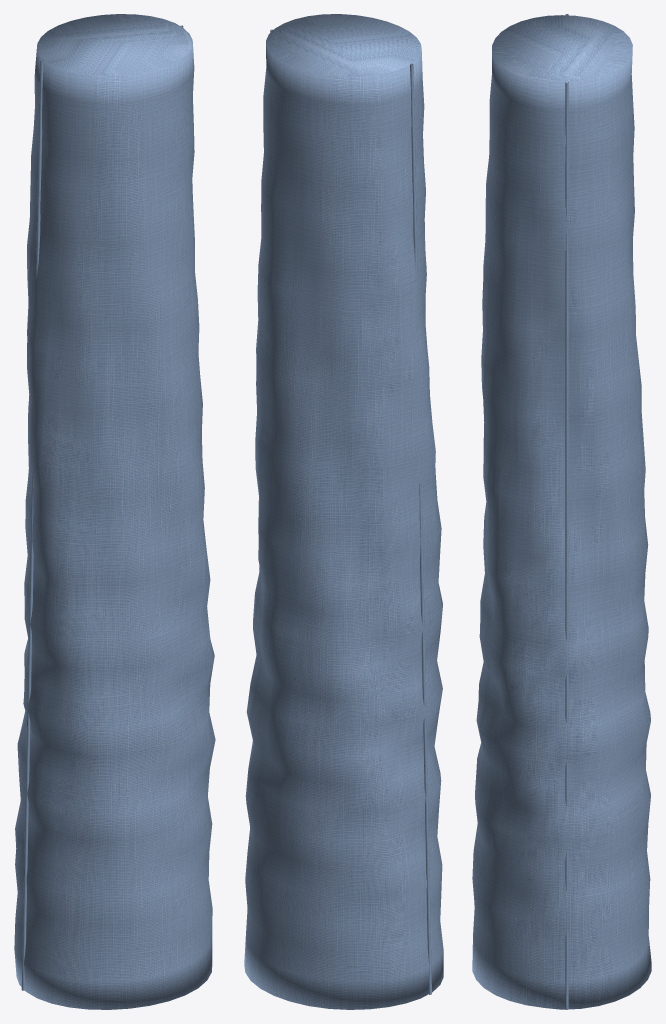
Rendered from player-trouser.glb.
3 views of the same model, side by side, from view 1: azimuth 30°, elevation 25°; view 2: azimuth 150°, elevation 25°; view 3: azimuth 270°, elevation 25° (orthographic).
Visible parts, largest first — view 1: player-trouser; view 2: player-trouser; view 3: player-trouser.
Boxes of the visible parts, x1,y1,x2,y2 form: player-trouser: (14,14,215,1009); player-trouser: (244,14,443,1009); player-trouser: (472,14,651,1009).
Bounding box in the file's own units: 0.2029 × 1 × 0.1772.
1 material, 1 textured.
